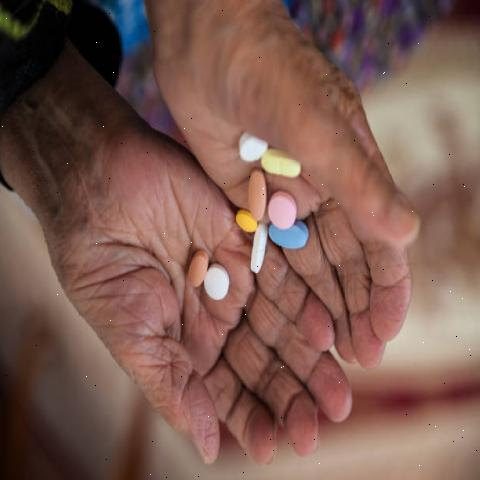Pill: (200, 259, 238, 307), (246, 218, 272, 284), (232, 122, 268, 166)
